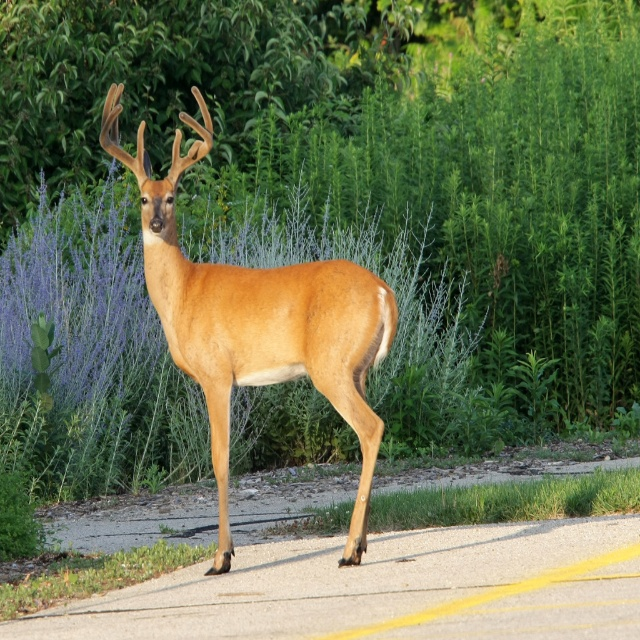Deer: (98, 78, 401, 573)
